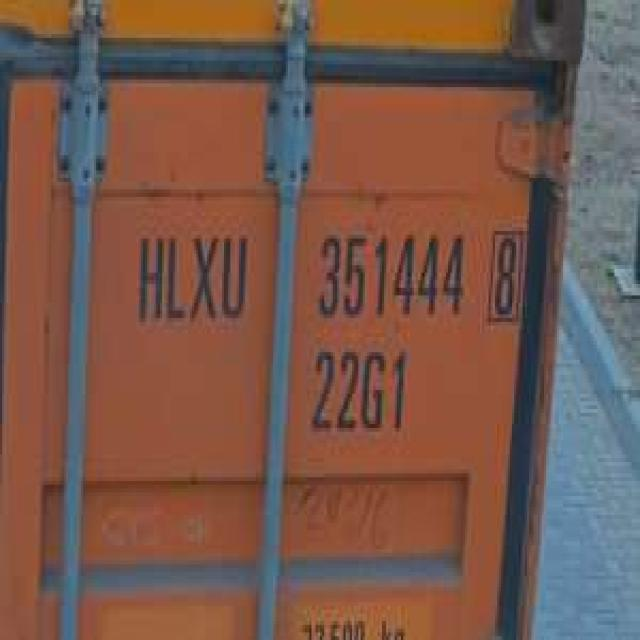dv: (484, 225, 525, 327)
owner: (132, 228, 252, 328)
serial: (313, 223, 467, 323)
size: (308, 339, 412, 435)
